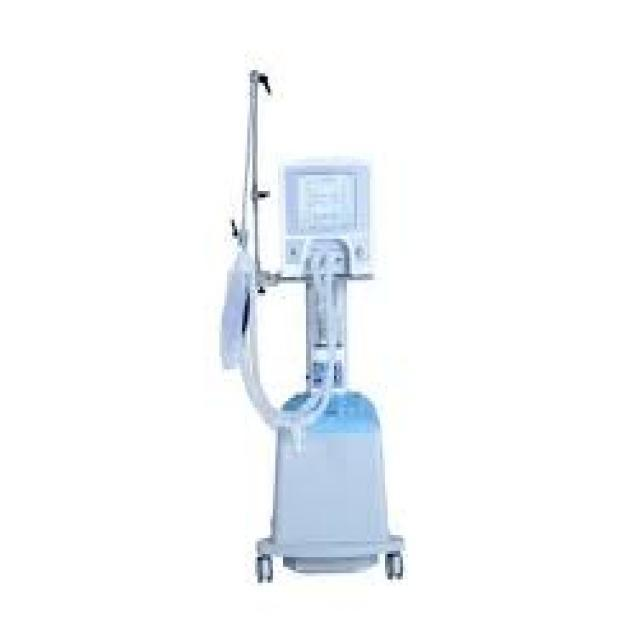ventilator: (206, 57, 437, 632)
